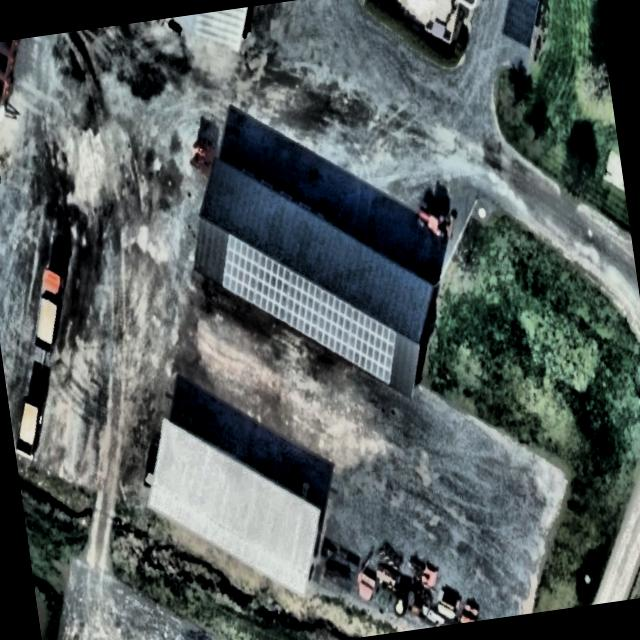roof_pv: (213, 230, 280, 324), (262, 253, 325, 349), (317, 274, 373, 378), (365, 312, 407, 396)
